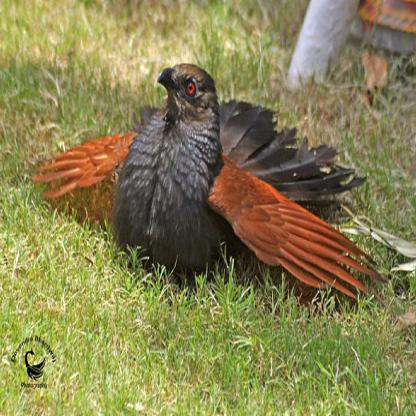Burung: (31, 62, 383, 306)
